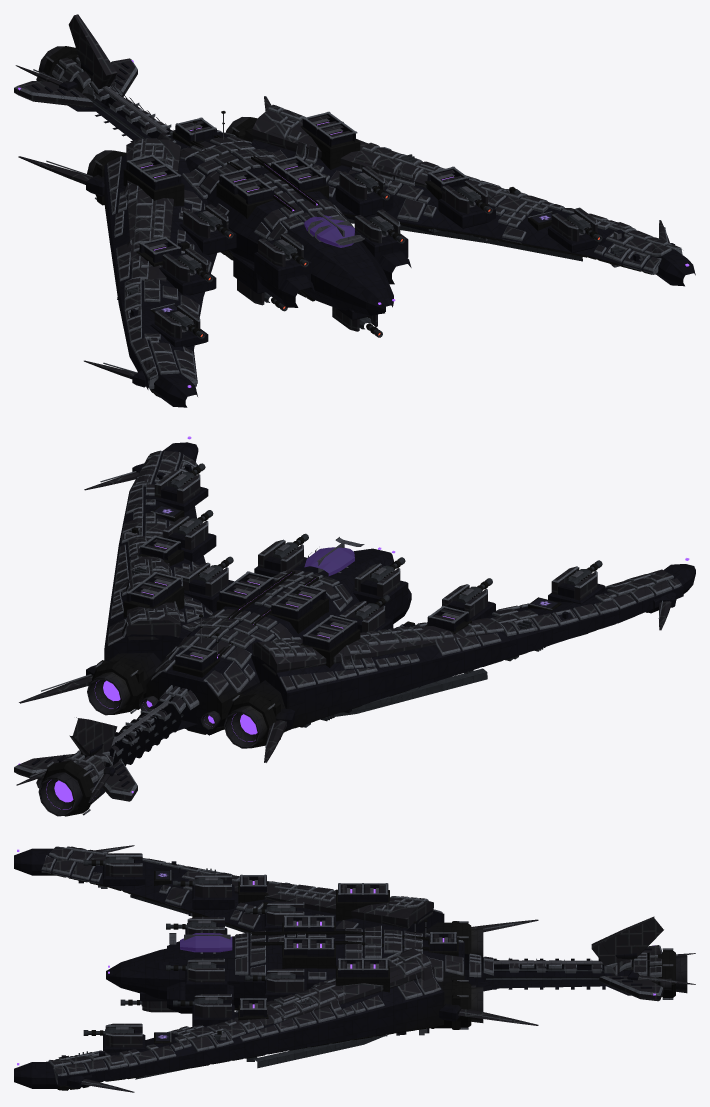
The model's file is eris-schiff7.glb.
3 views of the same model, one above another, from view 1: azimuth 30°, elevation 25°; view 2: azimuth 150°, elevation 25°; view 3: azimuth 270°, elevation 25° (orthographic). The views are drawn at different scales.
Parts seen in each view (by area): view 1: Hull_LOD0; view 2: Hull_LOD0, EngineLight; view 3: Hull_LOD0.
Boxes of the visible parts, x1,y1,x2,y2 form: Hull_LOD0: (14, 14, 695, 407); Hull_LOD0: (14, 436, 695, 816); EngineLight: (46, 680, 257, 809); Hull_LOD0: (14, 845, 695, 1092).
Size of the model in its own units: 82.61 by 15.74 by 96.22.
Materials: 6 (4 with a texture image).
